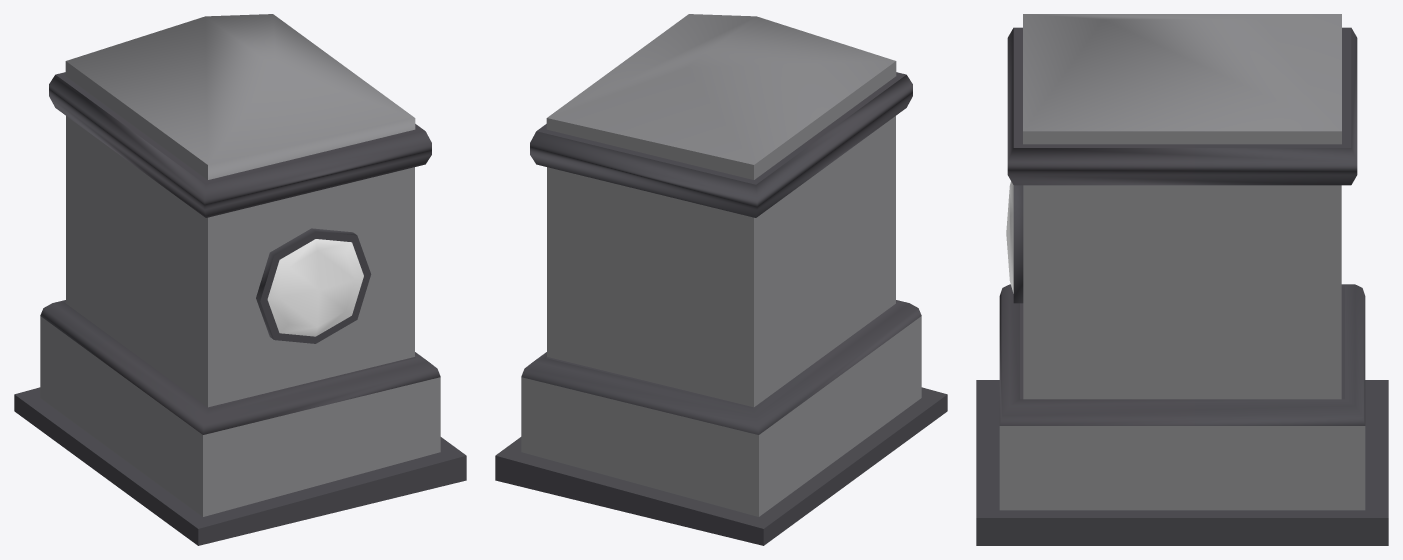
Rendered from Sarcophagus02.glb.
The picture shows the model from 3 angles, left to right: view 1: azimuth 30°, elevation 25°; view 2: azimuth 150°, elevation 25°; view 3: azimuth 270°, elevation 25°; orthographic projection. The views are drawn at different scales.
Visible parts, largest first — view 1: Sarcophagus02; view 2: Sarcophagus02; view 3: Sarcophagus02.
Part boxes in pixels (x1,y1,x2,y2): Sarcophagus02: [14, 14, 466, 545]; Sarcophagus02: [495, 14, 947, 545]; Sarcophagus02: [976, 14, 1388, 545].
Size of what is drawn, in the model's own units: 0.9877 by 1.42 by 1.17.
1 material, 1 textured.
